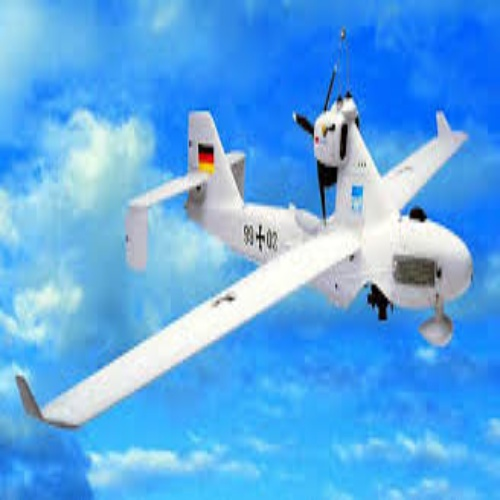uav: (19, 28, 478, 428)
